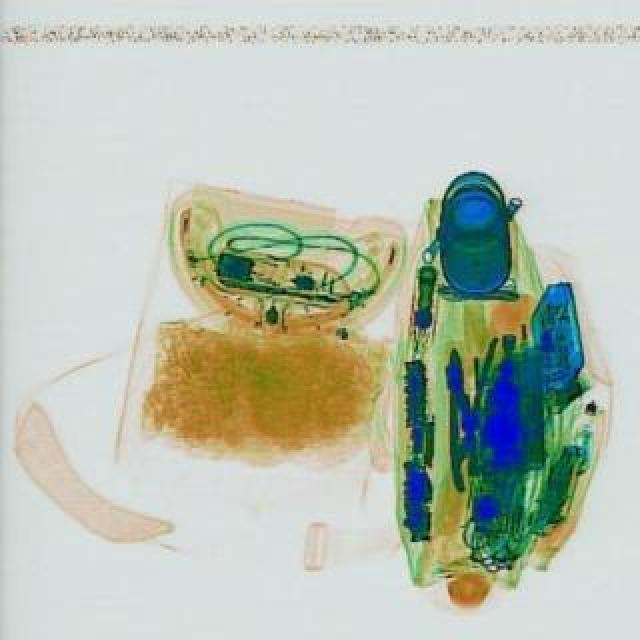wrench: (438, 344, 482, 488)
